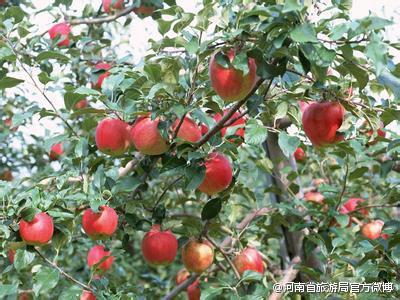apple: (211, 50, 256, 99), (301, 99, 347, 146), (193, 151, 232, 195), (129, 113, 167, 155), (95, 118, 132, 155), (16, 209, 53, 243), (141, 232, 176, 265), (81, 205, 118, 236), (182, 238, 213, 272), (232, 246, 264, 274), (358, 220, 384, 239), (48, 142, 63, 160), (72, 97, 88, 109)
